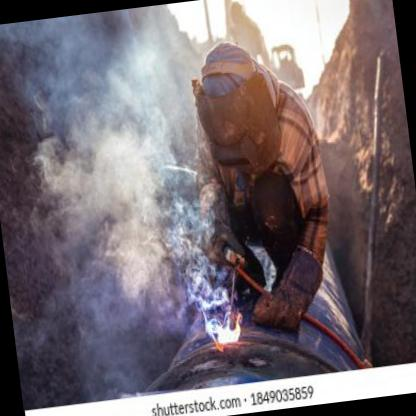Gloves: (245, 242, 330, 333), (192, 176, 247, 268)
